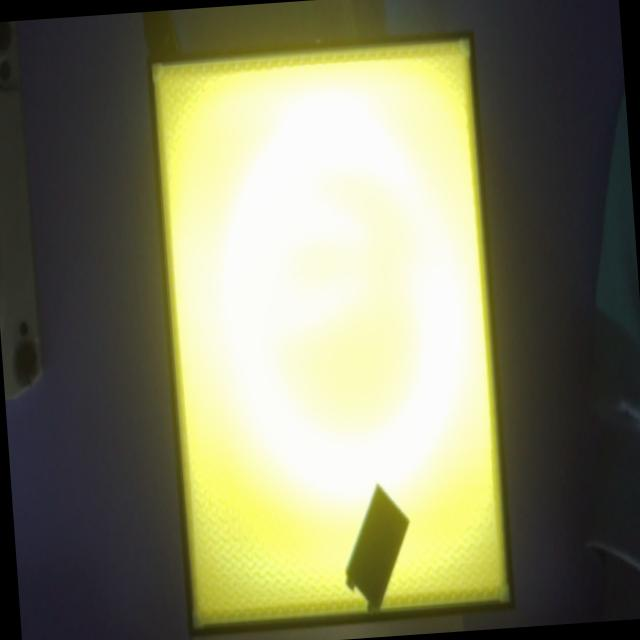bateria: (344, 482, 410, 615)
mesa: (147, 29, 515, 637)
